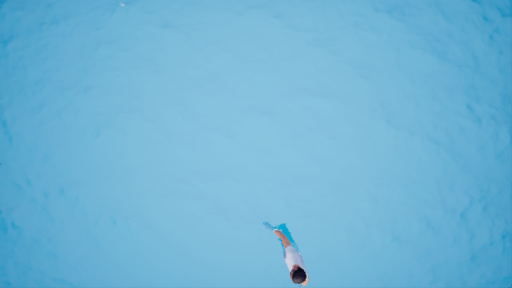person: (249, 217, 324, 288)
